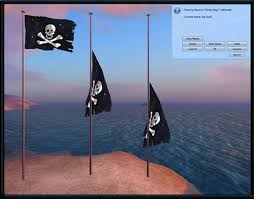Jolly Roger Flag: (21, 13, 77, 56), (141, 81, 170, 151), (83, 51, 113, 118)
